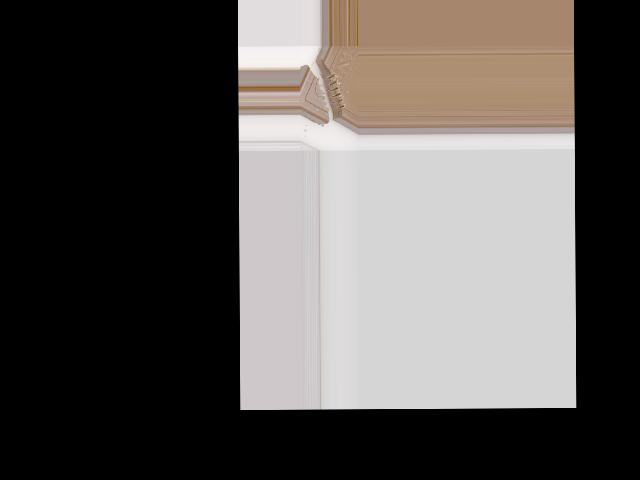chocolate: (299, 46, 357, 135)
